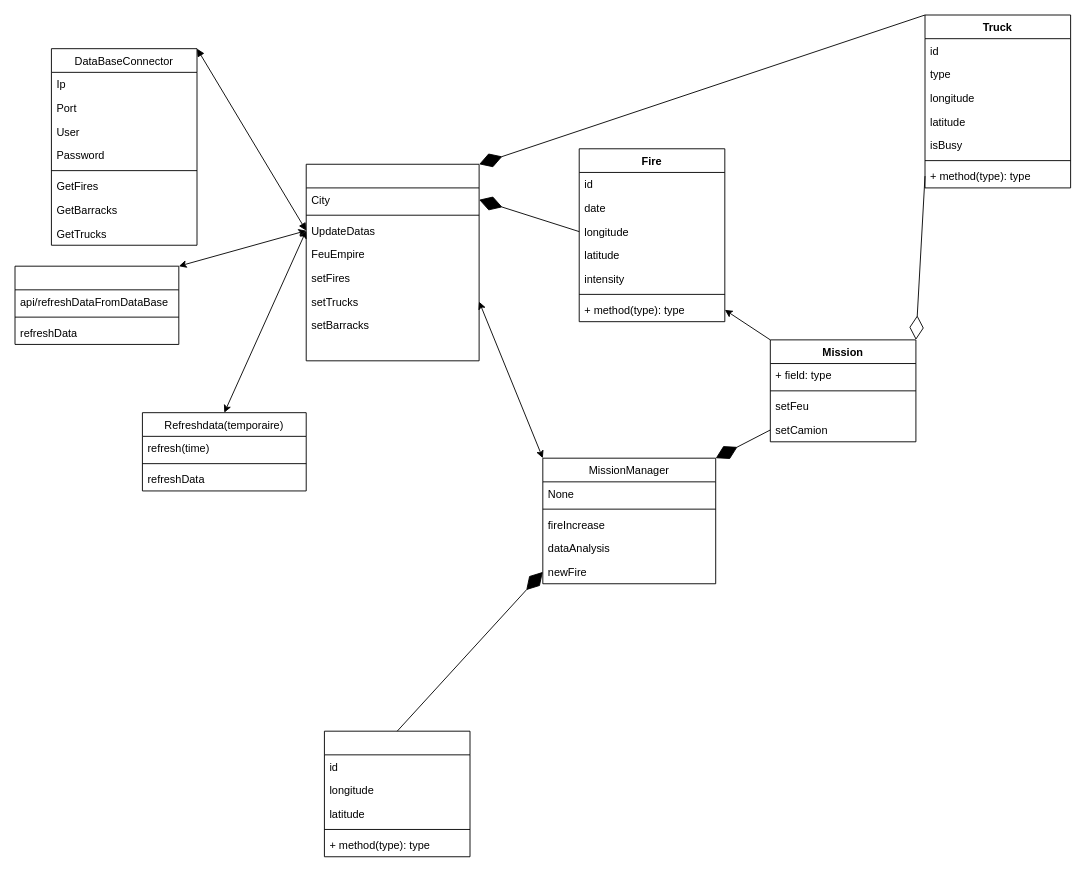
Image size: 1086x872. Some labels were removed from this diagram. Here are the shapes that lost their labels. From the top down, the box of each, then its label:
(305, 163, 479, 361): Manager
(14, 265, 179, 344): ApiService
(324, 730, 470, 857): Caserne
